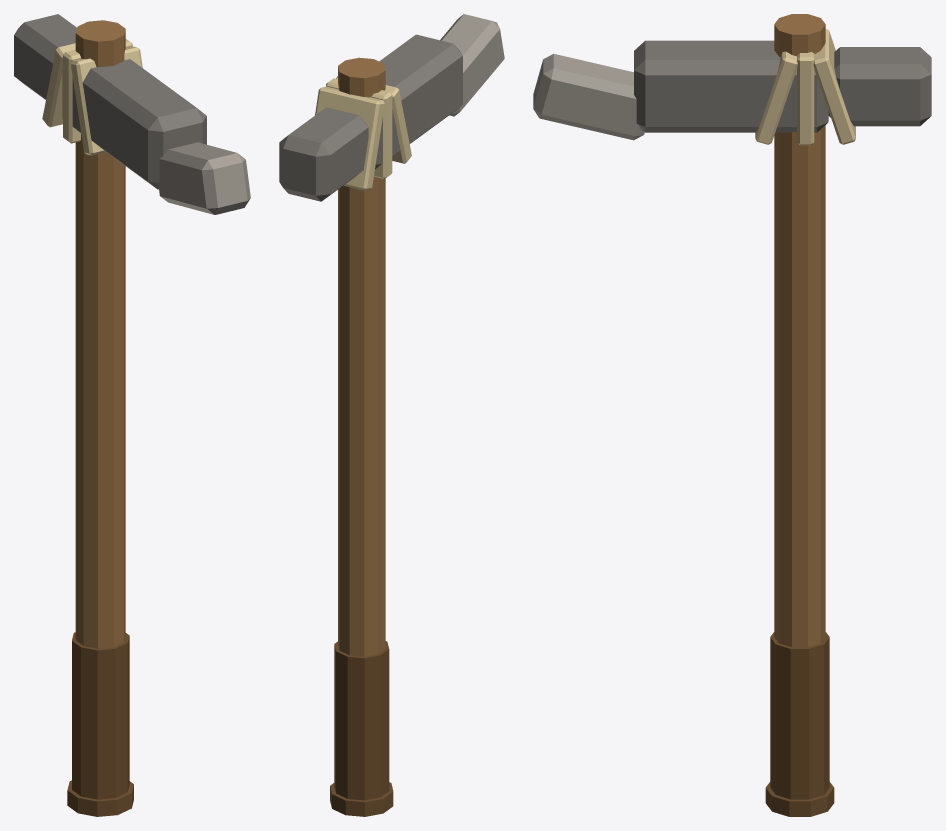
The model's file is pioche_pierre.glb.
The picture shows the model from 3 angles, left to right: view 1: azimuth 30°, elevation 25°; view 2: azimuth 150°, elevation 25°; view 3: azimuth 270°, elevation 25°; orthographic projection. The views are drawn at different scales.
Visible parts, largest first — view 1: pioche_manche.004, pioche_silex.002, pioche_manche_sombre.004, pioche_silex_clair.002, pioche_ficelle.002; view 2: pioche_manche.004, pioche_silex.002, pioche_manche_sombre.004, pioche_ficelle.002, pioche_silex_clair.002; view 3: pioche_manche.004, pioche_silex.002, pioche_manche_sombre.004, pioche_silex_clair.002, pioche_ficelle.002.
Boxes of the visible parts, x1,y1,x2,y2 form: pioche_manche.004: [75, 20, 125, 648]; pioche_silex.002: [14, 14, 206, 189]; pioche_manche_sombre.004: [67, 632, 133, 816]; pioche_silex_clair.002: [158, 142, 250, 214]; pioche_ficelle.002: [42, 39, 142, 155]; pioche_manche.004: [338, 57, 385, 656]; pioche_silex.002: [279, 34, 462, 201]; pioche_manche_sombre.004: [330, 641, 393, 816]; pioche_ficelle.002: [315, 76, 411, 190]; pioche_silex_clair.002: [440, 14, 504, 116]; pioche_manche.004: [774, 14, 825, 647]; pioche_silex.002: [634, 40, 931, 132]; pioche_manche_sombre.004: [765, 632, 834, 816]; pioche_silex_clair.002: [533, 53, 644, 140]; pioche_ficelle.002: [755, 29, 855, 145].
Size of the model in its own units: 0.065 by 0.75 by 0.3478.
